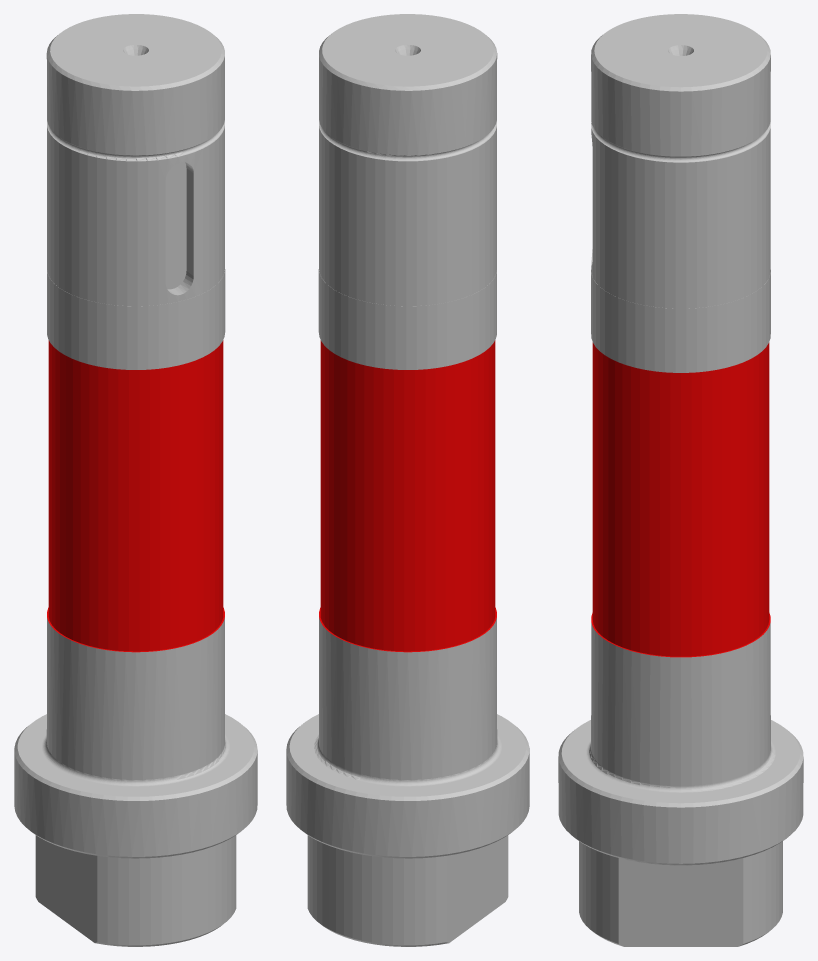
File: 1_stp_9_10_11.obj
The picture shows the model from 3 angles, left to right: view 1: azimuth 30°, elevation 25°; view 2: azimuth 150°, elevation 25°; view 3: azimuth 270°, elevation 25°; orthographic projection.
Parts seen in each view (by area): view 1: Object1; view 2: Object1; view 3: Object1.
Boxes of the visible parts, x1,y1,x2,y2 form: Object1: [14, 14, 257, 946]; Object1: [286, 14, 529, 946]; Object1: [558, 14, 803, 946].
Size of the model in its own units: 75 by 291 by 74.98.
